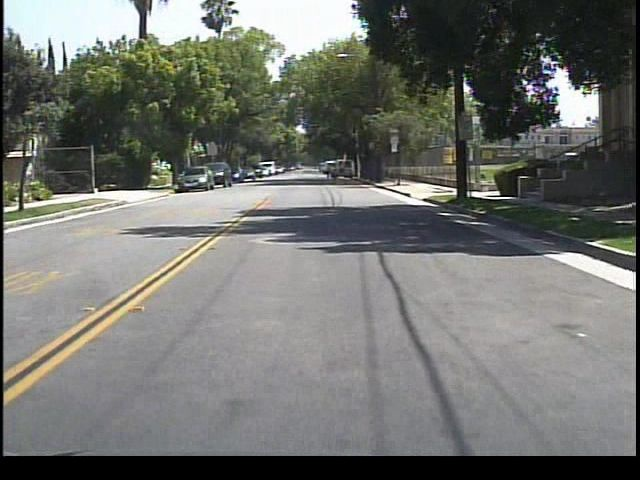person: (320, 160, 335, 185)
